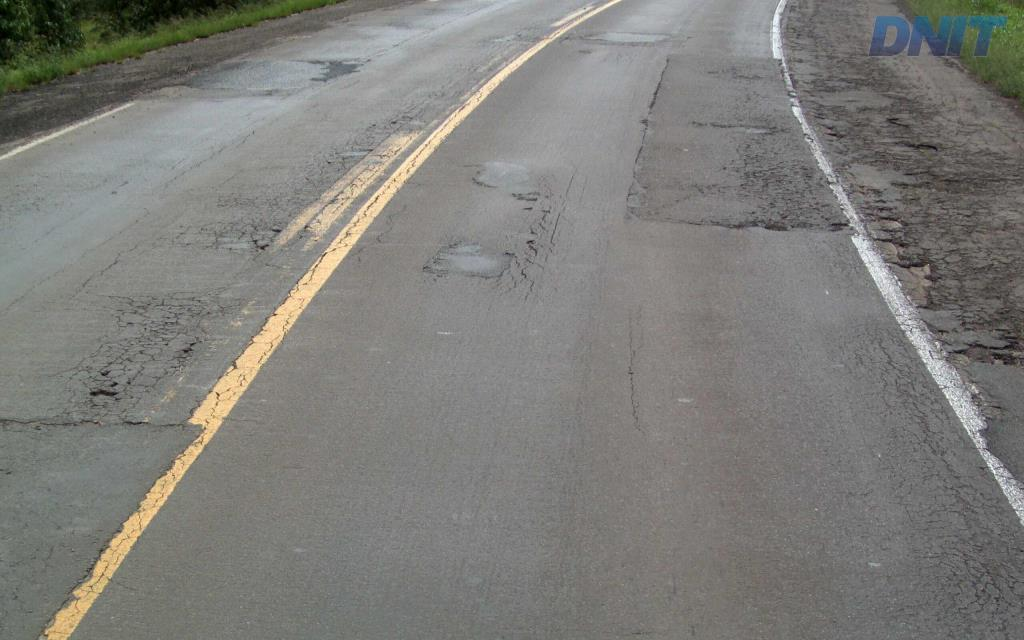crack: (945, 528, 1023, 596), (710, 206, 791, 231)
